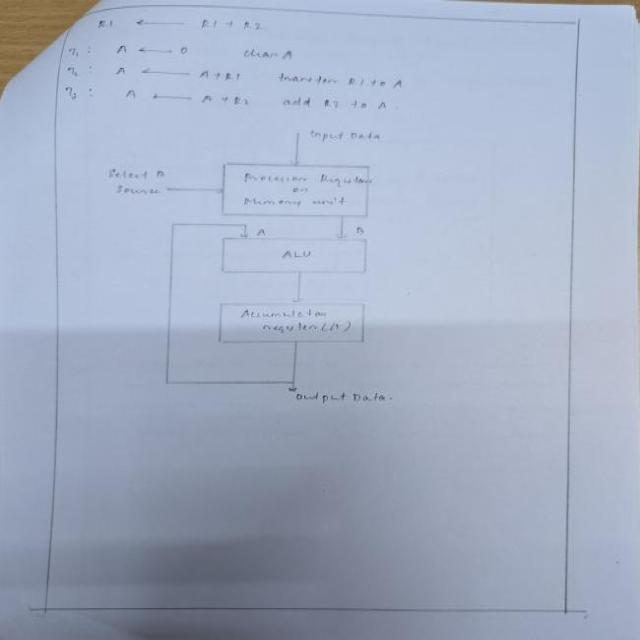Figure Detection - v3 Dataset Version2: (90, 115, 485, 422)
